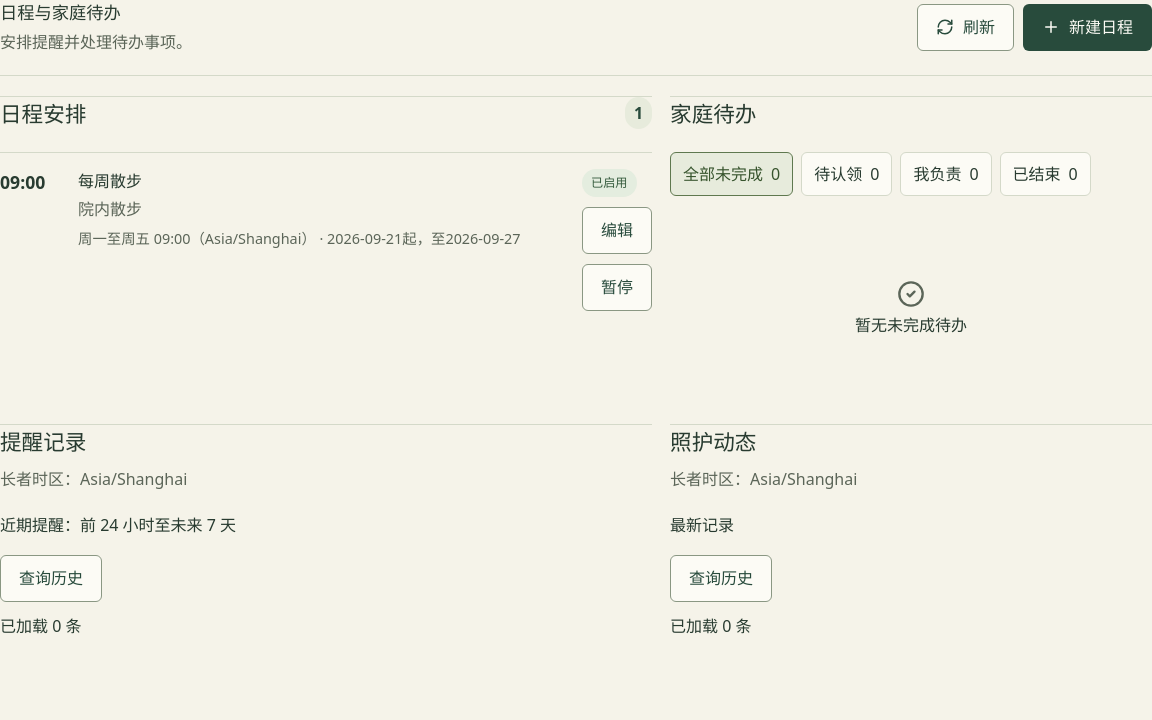
Scenario: independent routine and task loading › keeps the same durable key for manual retries and retains the authorized view
Click the button "暂停" at (617,287), box [582,264,652,311]
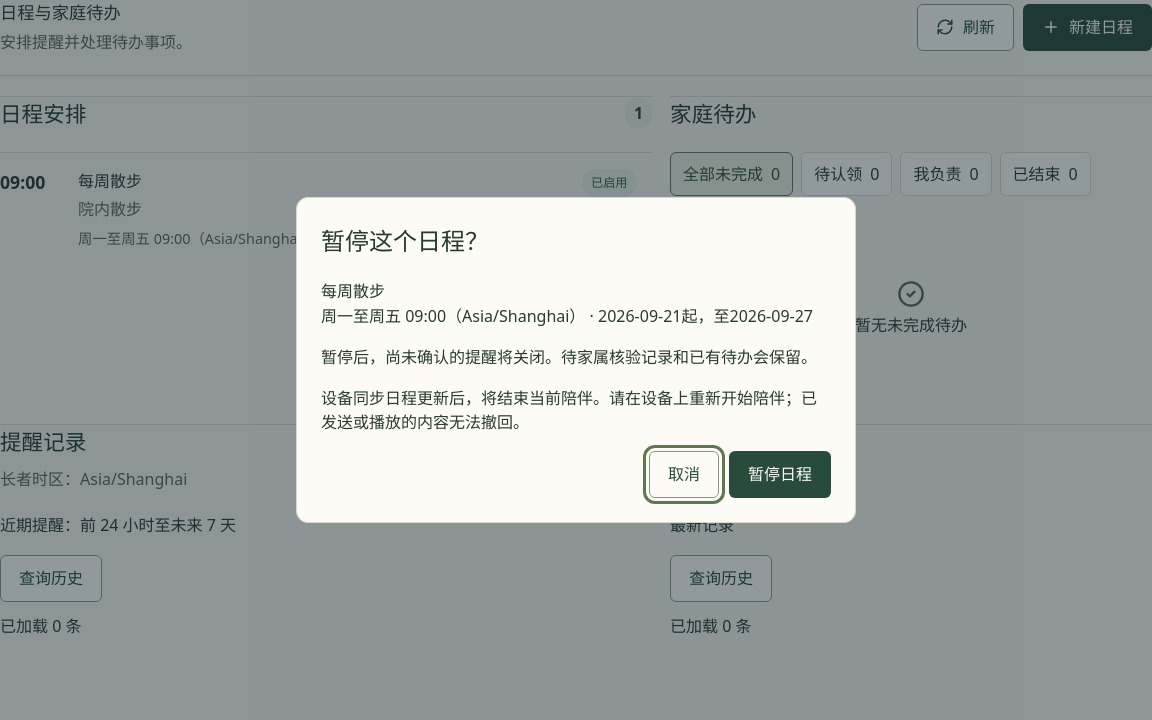
Check: the button "暂停日程" is shown
Click the button "暂停日程" at (780,474), box [729,451,831,498]
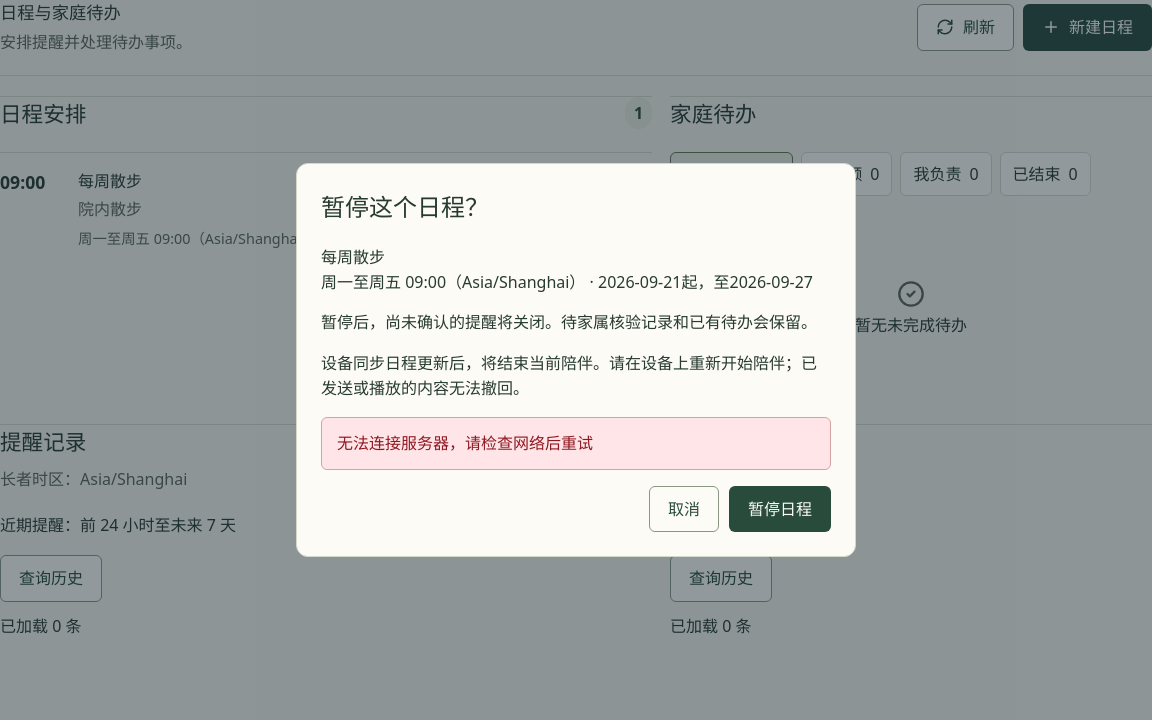
Check: the text "每周散步" is shown, box [78,170,142,192]
Check: the button "暂停日程" is shown
Check: the dialog shows "无法连接服务器", box [337,432,593,454]
Click the button "暂停日程" at (780,509), box [729,486,831,532]
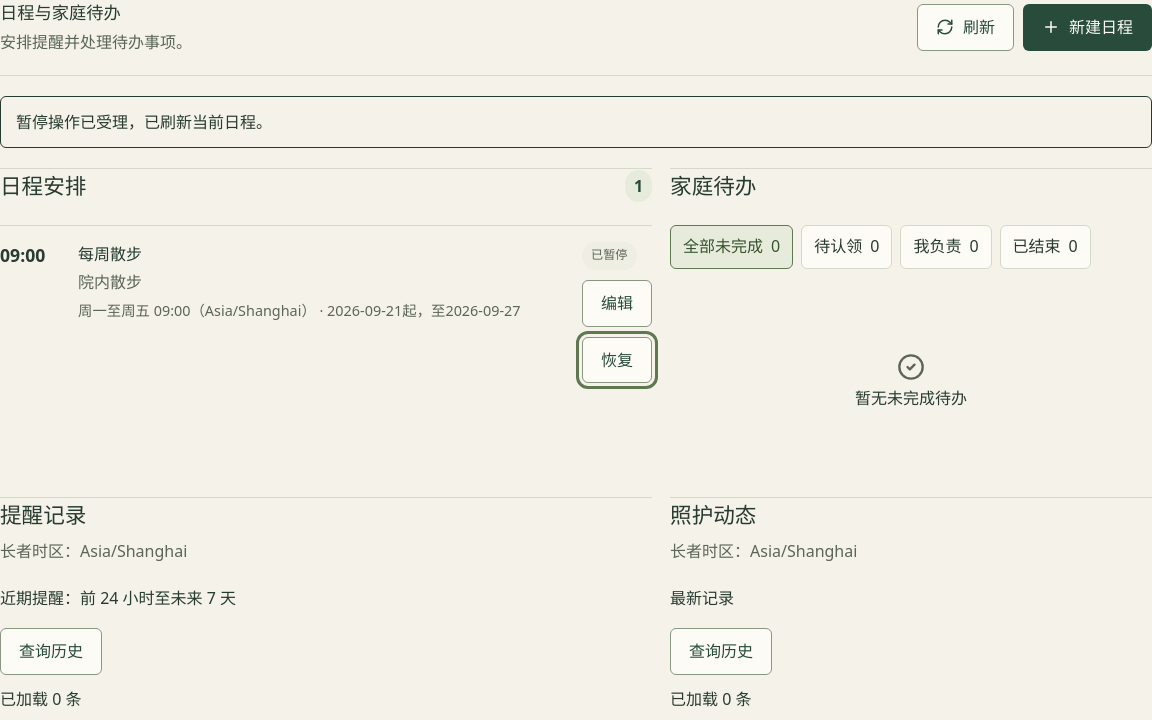
Check: the text "已暂停" is shown, box [582,242,636,270]
